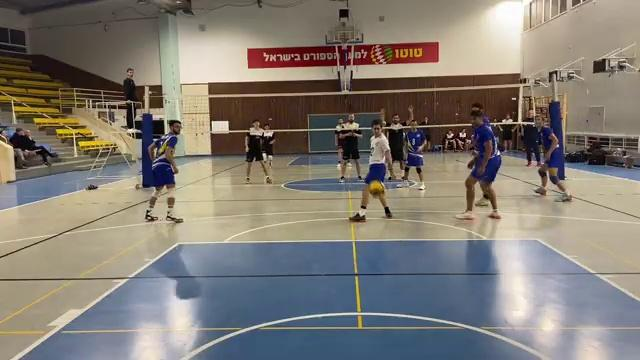ball: (369, 179, 387, 200)
